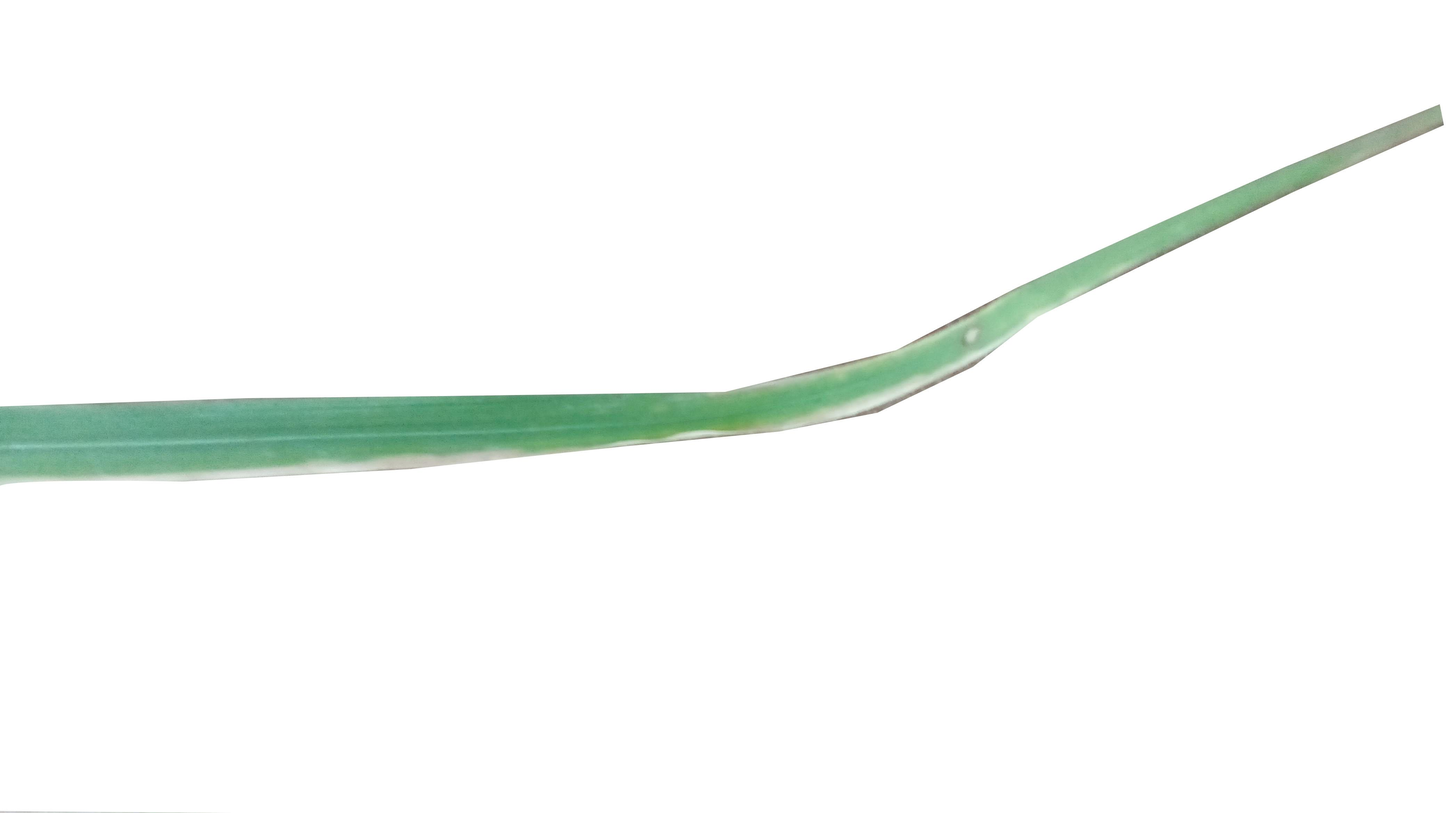Blight: (796, 346, 966, 429)
Tungro: (1312, 111, 1439, 142)
